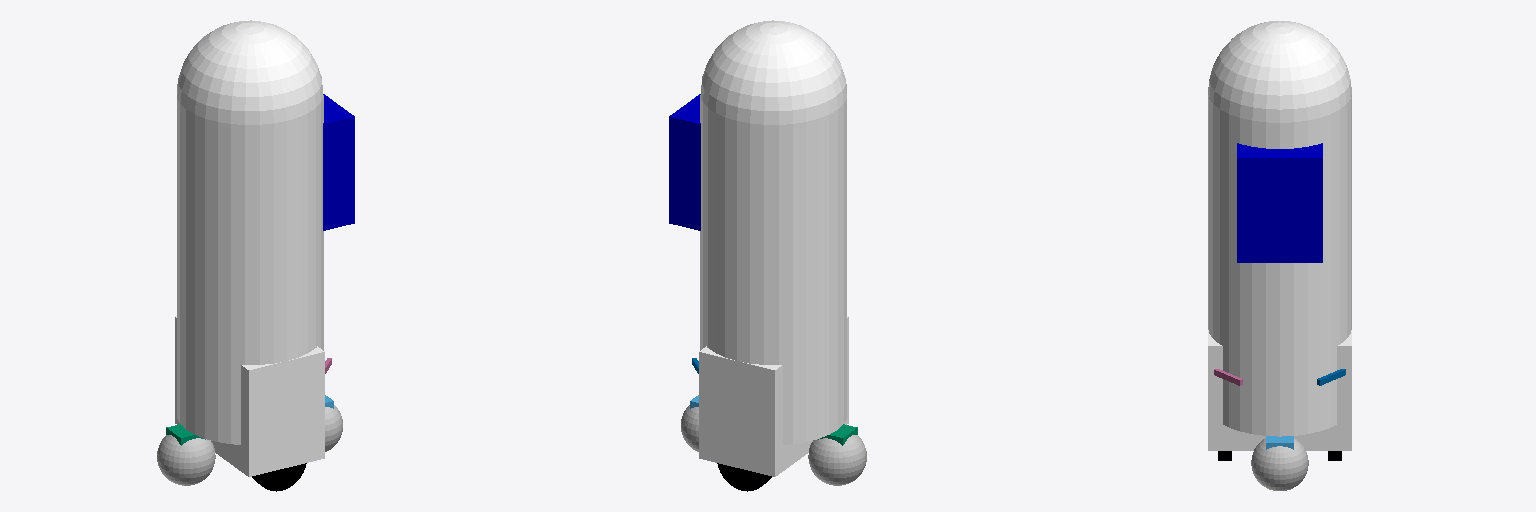
The robot description file, URDF, robot "deliverybot":
<?xml version="1.0" ?>
<!-- =================================================================================== -->
<!-- |    This document was autogenerated by xacro from deliverybot.urdf.xacro         | -->
<!-- |    EDITING THIS FILE BY HAND IS NOT RECOMMENDED                                 | -->
<!-- =================================================================================== -->
<robot name="deliverybot">
  <!-- source en.wikipedia.org/wiki/List_of_moments_of_inertia-->
  <material name="Red">
    <color rgba="1 0 0 1"/>
  </material>
  <material name="Green">
    <color rgba="0 1 0 1"/>
  </material>
  <material name="Blue">
    <color rgba="0 0 0.8 1"/>
  </material>
  <material name="Black">
    <color rgba="0 0 0 1"/>
  </material>
  <material name="White">
    <color rgba="1 1 1 1"/>
  </material>
  <material name="Grey">
    <color rgba="0.8 0.8 0.8 1"/>
  </material>
  <material name="Yellow">
    <color rgba="1 1 0 1"/>
  </material>
  <material name="Orange">
    <color rgba="1 0.5 0 1"/>
  </material>
  <material name="Brown">
    <color rgba="0.6 0.4 0.2 1"/>
  </material>
  <material name="Purple">
    <color rgba="0.5 0 0.5 1"/>
  </material>
  <material name="Cyan">
    <color rgba="0 1 1 1"/>
  </material>
  <!-- Gazebo plugin for ROS Control -->
  <!-- <gazebo>
    <plugin name="gazebo_ros_control" filename="libgazebo_ros_control.so">
      <robotNamespace>/</robotNamespace>
    </plugin>
  </gazebo> -->
  <!-- <gazebo reference="front_lidar">
    <material>Gazebo/FlatBlack</material>
    <sensor type="ray" name="lds_lfcd_sensor">
      <pose>0 0 0 0 0 0</pose>
      <visualize>false</visualize>
      <update_rate>5</update_rate>
      <ray>
        <scan>
          <horizontal>
            <samples>180</samples>
            <resolution>1</resolution>
            <min_angle>${-M_PI_2} </min_angle>
            <max_angle>${M_PI_2}</max_angle>
          </horizontal>
        </scan>
        <range>
          <min>0.120</min>
          <max>3.5</max>
          <resolution>0.015</resolution>
        </range>
        <noise>
          <type>gaussian</type>
          <mean>0.0</mean>
          <stddev>0.01</stddev>
        </noise>
      </ray>
      <plugin name="gazebo_ros_lds_lfcd_controller" filename="libgazebo_ros_laser.so">
        <topicName>scan/front</topicName>
        <frameName>front_lidar</frameName>
      </plugin>
    </sensor>
  </gazebo>

  <gazebo reference="back_lidar">
    <material>Gazebo/FlatBlack</material>
    <sensor type="ray" name="lds_lfcd_sensor">
      <pose>0 0 0 0 0 0</pose>
      <visualize>false</visualize>
      <update_rate>5</update_rate>
      <ray>
        <scan>
          <horizontal>
            <samples>180</samples>
            <resolution>1</resolution>
            <min_angle>${M_PI_2} </min_angle>
            <max_angle>${-M_PI_2}</max_angle>
          </horizontal>
        </scan>
        <range>
          <min>0.120</min>
          <max>3.5</max>
          <resolution>0.015</resolution>
        </range>
        <noise>
          <type>gaussian</type>
          <mean>0.0</mean>
          <stddev>0.01</stddev>
        </noise>
      </ray>
      <plugin name="gazebo_ros_lds_lfcd_controller" filename="libgazebo_ros_laser.so">
        <topicName>scan/back</topicName>
        <frameName>back_lidar</frameName>
      </plugin>
    </sensor>
  </gazebo> -->
  <link name="base_footprint"/>
  <link name="base_link">
    <visual>
      <origin rpy="0 0 0" xyz="0 0 .7"/>
      <geometry>
        <cylinder length="1.2" radius="0.25"/>
      </geometry>
      <material name="White"/>
    </visual>
    <collision>
      <origin rpy="0 0 0" xyz="0 0 .7"/>
      <geometry>
        <cylinder length="1.2" radius="0.25"/>
      </geometry>
    </collision>
    <inertial>
      <mass value="10"/>
      <inertia ixx="1.35625" ixy="0" ixz="0" iyy="1.35625" iyz="0" izz="0.3125"/>
    </inertial>
  </link>
  <gazebo reference="base_link">
    <material>Gazebo/White</material>
    <mu1>0.2</mu1>
    <mu2>0.2</mu2>
    <kp>500000.0</kp>
    <kd>10.0</kd>
    <minDepth>0.001</minDepth>
    <maxVel>0.1</maxVel>
    <fdir1>1 0 0</fdir1>
  </gazebo>
  <joint name="base_joint" type="fixed">
    <parent link="base_footprint"/>
    <child link="base_link"/>
    <origin rpy="0 0 0" xyz="0 0 0.1"/>
  </joint>
  <link name="screen">
    <visual>
      <origin rpy="0 0 0" xyz=".25 0 1"/>
      <geometry>
        <box size="0.15 0.3 0.4"/>
      </geometry>
      <material name="Blue"/>
    </visual>
    <collision>
      <origin rpy="0 0 0" xyz=".25 0 1"/>
      <geometry>
        <box size="0.15 0.3 0.4"/>
      </geometry>
    </collision>
    <inertial>
      <mass value="1"/>
      <inertia ixx="0.020833333333333332" ixy="0" ixz="0" iyy="0.015208333333333336" iyz="0" izz="0.009375"/>
    </inertial>
  </link>
  <gazebo reference="screen">
    <material>Gazebo/Blue</material>
    <mu1>0.2</mu1>
    <mu2>0.2</mu2>
    <kp>500000.0</kp>
    <kd>10.0</kd>
    <minDepth>0.001</minDepth>
    <maxVel>0.1</maxVel>
    <fdir1>1 0 0</fdir1>
  </gazebo>
  <joint name="screen_joint" type="fixed">
    <parent link="base_link"/>
    <child link="screen"/>
    <origin rpy="0 0 0" xyz="0 0 0"/>
  </joint>
  <link name="butt">
    <visual>
      <origin rpy="0 0 0" xyz="0 0 0"/>
      <geometry>
        <box size="0.3 0.5 0.4"/>
      </geometry>
      <material name="White"/>
    </visual>
    <collision>
      <origin rpy="0 0 0" xyz="0 0 0"/>
      <geometry>
        <box size="0.3 0.5 0.4"/>
      </geometry>
    </collision>
    <inertial>
      <mass value="1"/>
      <inertia ixx="0.03416666666666667" ixy="0" ixz="0" iyy="0.020833333333333332" iyz="0" izz="0.028333333333333332"/>
    </inertial>
  </link>
  <gazebo reference="butt">
    <material>Gazebo/White</material>
    <mu1>0.2</mu1>
    <mu2>0.2</mu2>
    <kp>500000.0</kp>
    <kd>10.0</kd>
    <minDepth>0.001</minDepth>
    <maxVel>0.1</maxVel>
    <fdir1>1 0 0</fdir1>
  </gazebo>
  <joint name="butt_joint" type="fixed">
    <parent link="base_link"/>
    <child link="butt"/>
    <origin rpy="0 0 0" xyz="0 0 0.2"/>
  </joint>
  <link name="head">
    <visual>
      <origin rpy="0 0 0" xyz="0 0 0"/>
      <geometry>
        <sphere radius="0.25"/>
      </geometry>
      <material name="White"/>
    </visual>
    <collision>
      <origin rpy="0 0 0" xyz="0 0 0"/>
      <geometry>
        <sphere radius="0.25"/>
      </geometry>
    </collision>
    <inertial>
      <mass value="1"/>
      <inertia ixx="0.025" ixy="0" ixz="0" iyy="0.025" iyz="0" izz="0.025"/>
    </inertial>
  </link>
  <gazebo reference="head">
    <material>Gazebo/White</material>
    <mu1>0.2</mu1>
    <mu2>0.2</mu2>
    <kp>500000.0</kp>
    <kd>10.0</kd>
    <minDepth>0.001</minDepth>
    <maxVel>0.1</maxVel>
    <fdir1>1 0 0</fdir1>
  </gazebo>
  <joint name="joint_head" type="fixed">
    <parent link="base_link"/>
    <child link="head"/>
    <origin rpy="0 0 0" xyz="0 0 1.3"/>
  </joint>
  <link name="left_wheel">
    <visual>
      <origin rpy="0 0 0" xyz="0 0 0"/>
      <geometry>
        <cylinder length="0.05" radius="0.1"/>
      </geometry>
      <material name="Black"/>
    </visual>
    <collision>
      <origin rpy="0 0 0" xyz="0 0 0"/>
      <geometry>
        <cylinder length="0.05" radius="0.1"/>
      </geometry>
    </collision>
    <inertial>
      <mass value="0.1"/>
      <inertia ixx="0.00027083333333333343" ixy="0" ixz="0" iyy="0.00027083333333333343" iyz="0" izz="0.0005000000000000001"/>
    </inertial>
  </link>
  <gazebo reference="left_wheel">
    <material>Gazebo/Black</material>
    <mu1>1000</mu1>
    <mu2>1000</mu2>
    <kp>500000.0</kp>
    <kd>10.0</kd>
    <minDepth>0.001</minDepth>
    <maxVel>0.1</maxVel>
    <fdir1>1 0 0</fdir1>
  </gazebo>
  <joint name="left_wheel_joint" type="continuous">
    <axis rpy="0 0 0" xyz="0 0 1"/>
    <parent link="base_link"/>
    <child link="left_wheel"/>
    <origin rpy="-1.5707963267948966 0 0" xyz="0 0.19 0"/>
  </joint>
  <link name="right_wheel">
    <visual>
      <origin rpy="0 0 0" xyz="0 0 0"/>
      <geometry>
        <cylinder length="0.05" radius="0.1"/>
      </geometry>
      <material name="Black"/>
    </visual>
    <collision>
      <origin rpy="0 0 0" xyz="0 0 0"/>
      <geometry>
        <cylinder length="0.05" radius="0.1"/>
      </geometry>
    </collision>
    <inertial>
      <mass value="0.1"/>
      <inertia ixx="0.00027083333333333343" ixy="0" ixz="0" iyy="0.00027083333333333343" iyz="0" izz="0.0005000000000000001"/>
    </inertial>
  </link>
  <gazebo reference="right_wheel">
    <material>Gazebo/Black</material>
    <mu1>1000</mu1>
    <mu2>1000</mu2>
    <kp>500000.0</kp>
    <kd>10.0</kd>
    <minDepth>0.001</minDepth>
    <maxVel>0.1</maxVel>
    <fdir1>1 0 0</fdir1>
  </gazebo>
  <joint name="right_wheel_joint" type="continuous">
    <axis rpy="0 0 0" xyz="0 0 1"/>
    <parent link="base_link"/>
    <child link="right_wheel"/>
    <origin rpy="-1.5707963267948966 0 0" xyz="0 -0.19 0"/>
  </joint>
  <gazebo>
    <plugin filename="libgazebo_ros_diff_drive.so" name="diff_drive_controller">
      <!-- Plugin update rate in Hz -->
      <!-- <updateRate>${update_rate}</updateRate> -->
      <left_joint>left_wheel_joint</left_joint>
      <right_joint>right_wheel_joint</right_joint>
      <!-- kinematics -->
      <wheel_separation>0.38</wheel_separation>
      <wheel_diameter>0.2</wheel_diameter>
      <!-- limits -->
      <max_wheel_acceleration>1.0</max_wheel_acceleration>
      <max_wheel_torque>20</max_wheel_torque>
      <!-- topics and frames -->
      <command_topic>cmd_vel</command_topic>
      <odometry_topic>odom</odometry_topic>
      <odometry_frame>odom</odometry_frame>
      <robot_base_frame>base_footprint</robot_base_frame>
      <!-- Odometry source, 0 for ENCODER, 1 for WORLD, defaults to WORLD -->
      <!-- <odometry_source>world</odometry_source> -->
      <!-- output -->
      <publish_odom>true</publish_odom>
      <publish_odom_tf>False</publish_odom_tf>
      <publish_wheel_tf>false</publish_wheel_tf>
      <!-- <publish_wheel_joint_state>true</publish_wheel_joint_state> -->
      <!-- <publish_tf>true</publish_tf> -->
    </plugin>
    <plugin filename="libgazebo_ros_joint_state_publisher.so" name="turtlebot3_joint_state">
      <ros>
        <!-- <namespace>/tb3</namespace> -->
        <remapping>~/out:=joint_states</remapping>
      </ros>
      <update_rate>30</update_rate>
      <joint_name>left_wheel_joint</joint_name>
      <joint_name>right_wheel_joint</joint_name>
    </plugin>
  </gazebo>
  <link name="casterwheel_back">
    <visual>
      <origin rpy="0 0 0" xyz="0 0 0"/>
      <geometry>
        <sphere radius="0.1"/>
      </geometry>
      <material name="Grey"/>
    </visual>
    <collision>
      <origin rpy="0 0 0" xyz="0 0 0"/>
      <geometry>
        <sphere radius="0.1"/>
      </geometry>
    </collision>
    <inertial>
      <mass value="0.1"/>
      <inertia ixx="0.0004000000000000001" ixy="0" ixz="0" iyy="0.0004000000000000001" iyz="0" izz="0.0004000000000000001"/>
    </inertial>
  </link>
  <gazebo reference="casterwheel_back">
    <material>Gazebo/Grey</material>
    <mu1>0.1</mu1>
    <mu2>0.1</mu2>
    <kp>500000.0</kp>
    <kd>10.0</kd>
    <minDepth>0.001</minDepth>
    <maxVel>0.1</maxVel>
    <fdir1>1 0 0</fdir1>
  </gazebo>
  <joint name="joint_casterwheel_back" type="fixed">
    <parent link="base_link"/>
    <child link="casterwheel_back"/>
    <origin rpy="0 0 0" xyz="-.25 0 -.0"/>
  </joint>
  <link name="casterwheel_front">
    <visual>
      <origin rpy="0 0 0" xyz="0 0 0"/>
      <geometry>
        <sphere radius="0.1"/>
      </geometry>
      <material name="Grey"/>
    </visual>
    <collision>
      <origin rpy="0 0 0" xyz="0 0 0"/>
      <geometry>
        <sphere radius="0.1"/>
      </geometry>
    </collision>
    <inertial>
      <mass value="0.1"/>
      <inertia ixx="0.0004000000000000001" ixy="0" ixz="0" iyy="0.0004000000000000001" iyz="0" izz="0.0004000000000000001"/>
    </inertial>
  </link>
  <gazebo reference="casterwheel_front">
    <material>Gazebo/Grey</material>
    <mu1>0.1</mu1>
    <mu2>0.1</mu2>
    <kp>500000.0</kp>
    <kd>10.0</kd>
    <minDepth>0.001</minDepth>
    <maxVel>0.1</maxVel>
    <fdir1>1 0 0</fdir1>
  </gazebo>
  <joint name="joint_casterwheel_front" type="fixed">
    <parent link="base_link"/>
    <child link="casterwheel_front"/>
    <origin rpy="0 0 0" xyz=".25 0 -.0"/>
  </joint>
  <link name="scan_front">
    <collision>
      <origin rpy="0 0 0" xyz="0 0 0"/>
      <geometry>
        <box size="0.1 0.1 0.1"/>
      </geometry>
    </collision>
    <visual>
      <origin rpy="0 0 0" xyz="0 0 0"/>
      <geometry>
        <box size="0.1 0.1 0.1"/>
        <!-- <mesh filename="package://urdf_basic_shapes/meshes/hokuyo.dae"/> -->
      </geometry>
    </visual>
    <inertial>
      <mass value="1e-5"/>
      <origin rpy="0 0 0" xyz="0 0 0"/>
      <inertia ixx="1e-6" ixy="0" ixz="0" iyy="1e-6" iyz="0" izz="1e-6"/>
    </inertial>
  </link>
  <joint name="scan_front_joint" type="fixed">
    <axis xyz="0 1 0"/>
    <origin rpy="0 3.141592653589793 0" xyz=".25 0 .05"/>
    <parent link="base_link"/>
    <child link="scan_front"/>
  </joint>
  <!-- hokuyo -->
  <gazebo reference="scan_front">
    <sensor name="scan_front_hokuyo_sensor" type="ray">
      <always_on>true</always_on>
      <visualize>true</visualize>
      <update_rate>10</update_rate>
      <ray>
        <scan>
          <horizontal>
            <samples>360</samples>
            <resolution>1</resolution>
            <min_angle>0.000000</min_angle>
            <max_angle>6.280000</max_angle>
          </horizontal>
        </scan>
        <range>
          <min>0.120000</min>
          <max>40</max>
          <resolution>0.030000</resolution>
        </range>
        <noise>
          <type>gaussian</type>
          <mean>0.0</mean>
          <stddev>0.05</stddev>
        </noise>
      </ray>
      <plugin filename="libgazebo_ros_ray_sensor.so" name="gazebo_ros_scan_front_controller">
        <ros>
          <remapping>~/out:=scan_front</remapping>
        </ros>
        <output_type>sensor_msgs/LaserScan</output_type>
        <frame_name>scan_front</frame_name>
      </plugin>
    </sensor>
  </gazebo>
  <link name="scan_back">
    <collision>
      <origin rpy="0 0 0" xyz="0 0 0"/>
      <geometry>
        <box size="0.1 0.1 0.1"/>
      </geometry>
    </collision>
    <visual>
      <origin rpy="0 0 0" xyz="0 0 0"/>
      <geometry>
        <box size="0.1 0.1 0.1"/>
        <!-- <mesh filename="package://urdf_basic_shapes/meshes/hokuyo.dae"/> -->
      </geometry>
    </visual>
    <inertial>
      <mass value="1e-5"/>
      <origin rpy="0 0 0" xyz="0 0 0"/>
      <inertia ixx="1e-6" ixy="0" ixz="0" iyy="1e-6" iyz="0" izz="1e-6"/>
    </inertial>
  </link>
  <joint name="scan_back_joint" type="fixed">
    <axis xyz="0 1 0"/>
    <origin rpy="0 0 0" xyz="-.25 0 .05"/>
    <parent link="base_link"/>
    <child link="scan_back"/>
  </joint>
  <!-- hokuyo -->
  <gazebo reference="scan_back">
    <sensor name="scan_back_hokuyo_sensor" type="ray">
      <always_on>true</always_on>
      <visualize>true</visualize>
      <update_rate>10</update_rate>
      <ray>
        <scan>
          <horizontal>
            <samples>360</samples>
            <resolution>1</resolution>
            <min_angle>0.000000</min_angle>
            <max_angle>6.280000</max_angle>
          </horizontal>
        </scan>
        <range>
          <min>0.120000</min>
          <max>40</max>
          <resolution>0.030000</resolution>
        </range>
        <noise>
          <type>gaussian</type>
          <mean>0.0</mean>
          <stddev>0.05</stddev>
        </noise>
      </ray>
      <plugin filename="libgazebo_ros_ray_sensor.so" name="gazebo_ros_scan_back_controller">
        <ros>
          <remapping>~/out:=scan_back</remapping>
        </ros>
        <output_type>sensor_msgs/LaserScan</output_type>
        <frame_name>scan_back</frame_name>
      </plugin>
    </sensor>
  </gazebo>
  <link name="imu"/>
  <joint name="imu_joint" type="fixed">
    <axis xyz="0 0 0"/>
    <origin rpy="0 0 0" xyz="-0.15 0 .5"/>
    <parent link="base_link"/>
    <child link="imu"/>
  </joint>
  <!-- imu -->
  <gazebo reference="imu">
    <sensor name="imu" type="imu">
      <plugin filename="libgazebo_ros_imu_sensor.so" name="imu_plugin">
        <ros>
          <namespace/>
          <remapping>~/out:=imu</remapping>
        </ros>
        <initial_orientation_as_reference>false</initial_orientation_as_reference>
      </plugin>
      <always_on>true</always_on>
      <update_rate>100</update_rate>
      <visualize>true</visualize>
      <imu>
        <angular_velocity>
          <x>
            <noise type="gaussian">
              <mean>0.0</mean>
              <stddev>2e-4</stddev>
              <bias_mean>0.0000075</bias_mean>
              <bias_stddev>0.0000008</bias_stddev>
            </noise>
          </x>
          <y>
            <noise type="gaussian">
              <mean>0.0</mean>
              <stddev>2e-4</stddev>
              <bias_mean>0.0000075</bias_mean>
              <bias_stddev>0.0000008</bias_stddev>
            </noise>
          </y>
          <z>
            <noise type="gaussian">
              <mean>0.0</mean>
              <stddev>2e-4</stddev>
              <bias_mean>0.0000075</bias_mean>
              <bias_stddev>0.0000008</bias_stddev>
            </noise>
          </z>
        </angular_velocity>
        <linear_acceleration>
          <x>
            <noise type="gaussian">
              <mean>0.0</mean>
              <stddev>1.7e-2</stddev>
              <bias_mean>0.1</bias_mean>
              <bias_stddev>0.001</bias_stddev>
            </noise>
          </x>
          <y>
            <noise type="gaussian">
              <mean>0.0</mean>
              <stddev>1.7e-2</stddev>
              <bias_mean>0.1</bias_mean>
              <bias_stddev>0.001</bias_stddev>
            </noise>
          </y>
          <z>
            <noise type="gaussian">
              <mean>0.0</mean>
              <stddev>1.7e-2</stddev>
              <bias_mean>0.1</bias_mean>
              <bias_stddev>0.001</bias_stddev>
            </noise>
          </z>
        </linear_acceleration>
      </imu>
    </sensor>
  </gazebo>
  <!-- better not use "/" in "name" can cause some warnings -->
  <link name="cameraL">
    <visual>
      <origin rpy="0 0 0" xyz="0 0 0"/>
      <geometry>
        <box size="0.015 0.130 0.022"/>
      </geometry>
    </visual>
    <collision>
      <origin rpy="0 0 0 " xyz="0 0 0 "/>
      <geometry>
        <box size="0.015 0.130 0.022"/>
      </geometry>
    </collision>
    <inertial>
      <origin rpy="0 0 0 " xyz="0 0 0 "/>
      <mass value="0.035"/>
      <inertia ixx="0.001" ixy="0" ixz="0" iyy="0.001" iyz="0" izz="0.001"/>
    </inertial>
  </link>
  <joint name="cameraL_joint" type="fixed">
    <parent link="base_link"/>
    <child link="cameraL"/>
    <origin rpy="0 0 0.7853981633974483" xyz=".19 0.18 .3"/>
  </joint>
  <link name="cameraL_depth_frame"/>
  <joint name="cameraL_depth_joint" type="fixed">
    <origin rpy="-1.5707963267948966 0 -1.5707963267948966" xyz="0 0 0"/>
    <parent link="cameraL"/>
    <child link="cameraL_depth_frame"/>
  </joint>
  <gazebo reference="cameraL">
    <sensor name="depth_cameraL" type="depth">
      <visualize>true</visualize>
      <update_rate>30.0</update_rate>
      <camera name="cameraL">
        <horizontal_fov>1.047198</horizontal_fov>
        <image>
          <width>640</width>
          <height>480</height>
          <format>R8G8B8</format>
        </image>
        <clip>
          <near>0.05</near>
          <far>3</far>
        </clip>
      </camera>
      <plugin filename="libgazebo_ros_camera.so" name="depth_cameraL_controller">
        <baseline>0.2</baseline>
        <alwaysOn>true</alwaysOn>
        <updateRate>0.0</updateRate>
        <frame_name>cameraL_depth_frame</frame_name>
        <pointCloudCutoff>0.5</pointCloudCutoff>
        <pointCloudCutoffMax>3.0</pointCloudCutoffMax>
        <distortionK1>0</distortionK1>
        <distortionK2>0</distortionK2>
        <distortionK3>0</distortionK3>
        <distortionT1>0</distortionT1>
        <distortionT2>0</distortionT2>
        <CxPrime>0</CxPrime>
        <Cx>0</Cx>
        <Cy>0</Cy>
        <focalLength>0</focalLength>
        <hackBaseline>0</hackBaseline>
      </plugin>
    </sensor>
  </gazebo>
  <link name="cameraR">
    <visual>
      <origin rpy="0 0 0" xyz="0 0 0"/>
      <geometry>
        <box size="0.015 0.130 0.022"/>
      </geometry>
    </visual>
    <collision>
      <origin rpy="0 0 0 " xyz="0 0 0 "/>
      <geometry>
        <box size="0.015 0.130 0.022"/>
      </geometry>
    </collision>
    <inertial>
      <origin rpy="0 0 0 " xyz="0 0 0 "/>
      <mass value="0.035"/>
      <inertia ixx="0.001" ixy="0" ixz="0" iyy="0.001" iyz="0" izz="0.001"/>
    </inertial>
  </link>
  <joint name="cameraR_joint" type="fixed">
    <parent link="base_link"/>
    <child link="cameraR"/>
    <origin rpy="3.141592653589793 0 -0.7853981633974483" xyz=".19 -.18 .3"/>
  </joint>
  <link name="cameraR_depth_frame"/>
  <joint name="cameraR_depth_joint" type="fixed">
    <origin rpy="-1.5707963267948966 0 -1.5707963267948966" xyz="0 0 0"/>
    <parent link="cameraR"/>
    <child link="cameraR_depth_frame"/>
  </joint>
  <gazebo reference="cameraR">
    <sensor name="depth_cameraR" type="depth">
      <visualize>true</visualize>
      <update_rate>30.0</update_rate>
      <camera name="cameraR">
        <horizontal_fov>1.047198</horizontal_fov>
        <image>
          <width>640</width>
          <height>480</height>
          <format>R8G8B8</format>
        </image>
        <clip>
          <near>0.05</near>
          <far>3</far>
        </clip>
      </camera>
      <plugin filename="libgazebo_ros_camera.so" name="depth_cameraR_controller">
        <baseline>0.2</baseline>
        <alwaysOn>true</alwaysOn>
        <updateRate>0.0</updateRate>
        <frame_name>cameraR_depth_frame</frame_name>
        <pointCloudCutoff>0.5</pointCloudCutoff>
        <pointCloudCutoffMax>3.0</pointCloudCutoffMax>
        <distortionK1>0</distortionK1>
        <distortionK2>0</distortionK2>
        <distortionK3>0</distortionK3>
        <distortionT1>0</distortionT1>
        <distortionT2>0</distortionT2>
        <CxPrime>0</CxPrime>
        <Cx>0</Cx>
        <Cy>0</Cy>
        <focalLength>0</focalLength>
        <hackBaseline>0</hackBaseline>
      </plugin>
    </sensor>
  </gazebo>
</robot>

--- Render facts (derived) ---
3 views of the same robot in one strip: view 1: azimuth 30°, elevation 25°; view 2: azimuth 150°, elevation 25°; view 3: azimuth 270°, elevation 25° (orthographic).
Model deliverybot with 16 links and 15 joints (2 continuous, 13 fixed), rooted at base_footprint, posed every joint at zero.
Links seen in each view (by area): view 1: base_link, head, butt, screen, casterwheel_back, right_wheel, casterwheel_front; view 2: base_link, head, butt, screen, casterwheel_back, left_wheel, casterwheel_front; view 3: base_link, head, screen, butt, casterwheel_front.
Boxes of the visible links, left/top/right/bottom form: base_link: left=177, top=96, right=323, bottom=444; head: left=177, top=20, right=323, bottom=124; butt: left=175, top=316, right=324, bottom=476; screen: left=323, top=94, right=354, bottom=230; casterwheel_back: left=157, top=435, right=215, bottom=485; right_wheel: left=252, top=463, right=306, bottom=491; casterwheel_front: left=325, top=405, right=342, bottom=451; base_link: left=700, top=96, right=846, bottom=444; head: left=700, top=20, right=846, bottom=124; butt: left=699, top=316, right=848, bottom=476; screen: left=669, top=94, right=700, bottom=230; casterwheel_back: left=808, top=435, right=866, bottom=485; left_wheel: left=717, top=463, right=771, bottom=491; casterwheel_front: left=681, top=405, right=698, bottom=451; base_link: left=1208, top=95, right=1351, bottom=436; head: left=1208, top=21, right=1351, bottom=122; screen: left=1237, top=143, right=1322, bottom=262; butt: left=1208, top=330, right=1351, bottom=450; casterwheel_front: left=1251, top=438, right=1308, bottom=490.
Bounding box of the posed robot: 0.7 × 0.5 × 1.65 m (x, y, z).
Geometry: primitives only (box / cylinder / sphere), no mesh files.